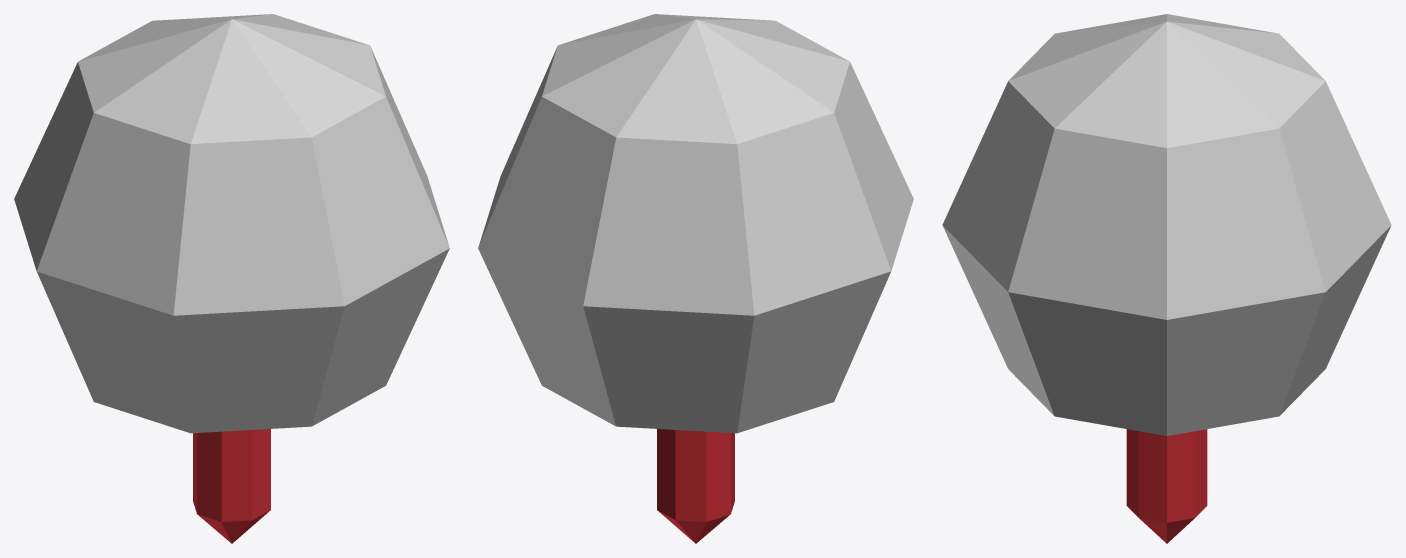
File: MDL_MiniBomb.fbx
3 renders of one model, left to right at view 1: azimuth 30°, elevation 25°; view 2: azimuth 150°, elevation 25°; view 3: azimuth 270°, elevation 25°, orthographic.
Visible parts, largest first — view 1: Sphere.002; view 2: Sphere.002; view 3: Sphere.002.
Boxes of the visible parts, x1,y1,x2,y2 form: Sphere.002: [14, 14, 449, 543]; Sphere.002: [478, 14, 913, 543]; Sphere.002: [942, 14, 1391, 543].
Size of the model in its own units: 215 by 277 by 215.
